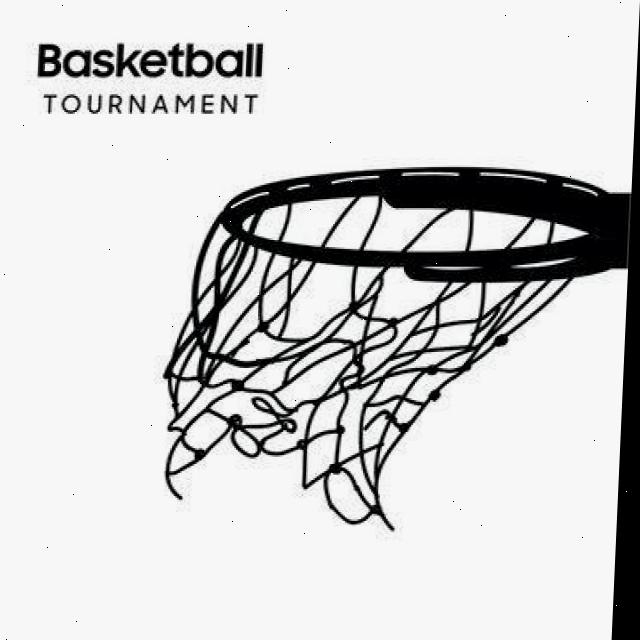hoop: (156, 165, 608, 530)
